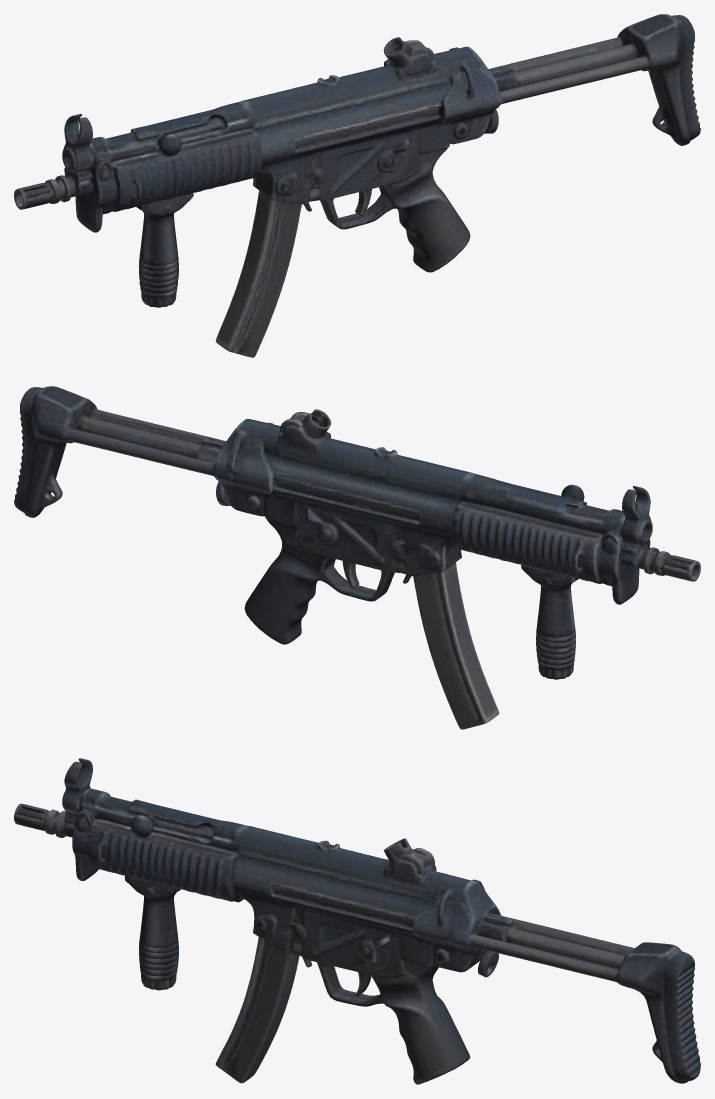
File: smg.glb
The picture shows the model from 3 angles, top to bottom: view 1: azimuth 30°, elevation 25°; view 2: azimuth 150°, elevation 25°; view 3: azimuth 330°, elevation 25°; orthographic projection.
Bounding box in the file's own units: 1.9 × 0.7444 × 0.2085.
1 material, 1 textured.
